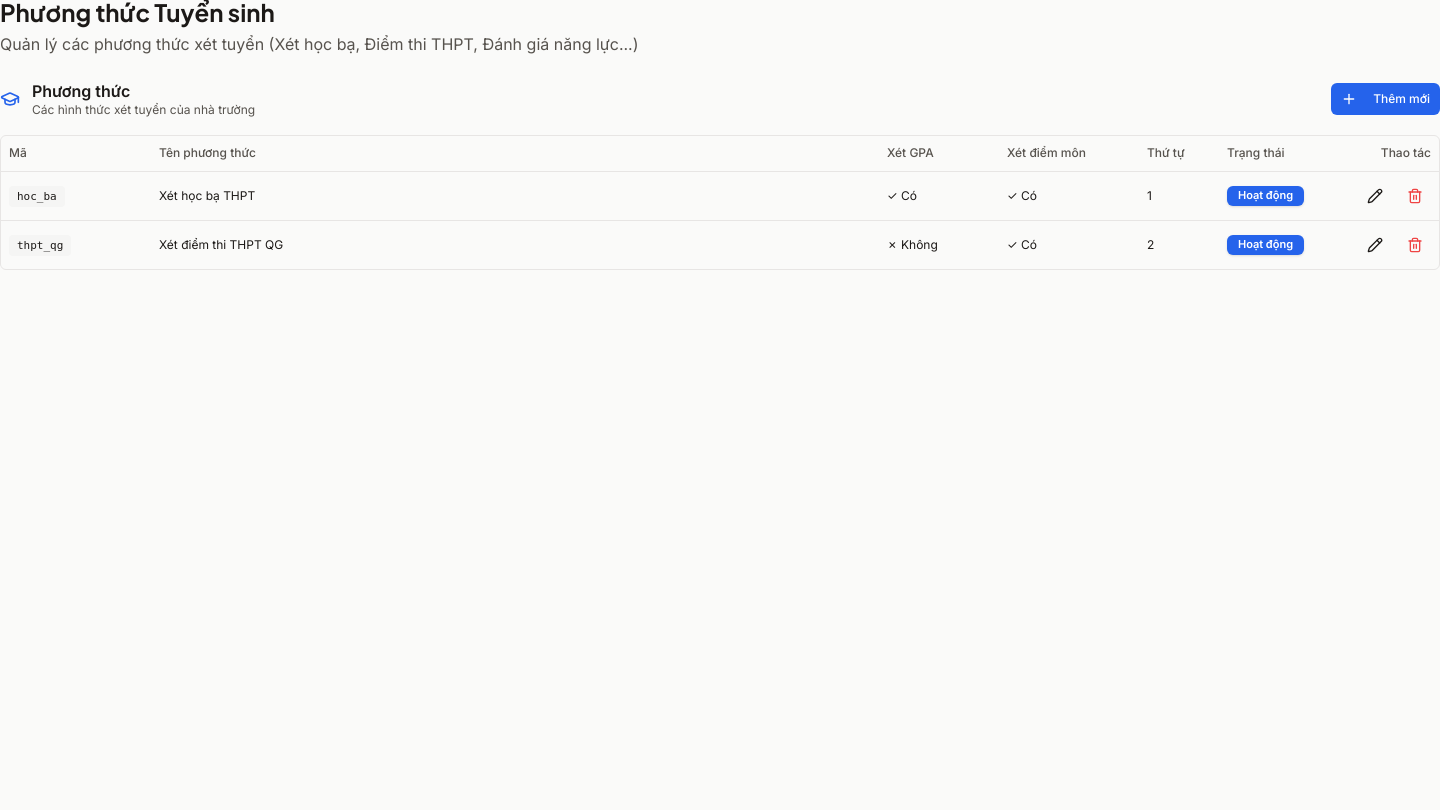
Test: AdmissionMethodPanel › should open edit dialog and populate data correctly
The width and height of the screenshot is (1440, 810).
# Edit "Xét học bạ THPT" (Row 1)
Click the button named "Chỉnh sửa" in the row of "hoc_ba": coordinates (1375, 196) [1359,180,1391,212]
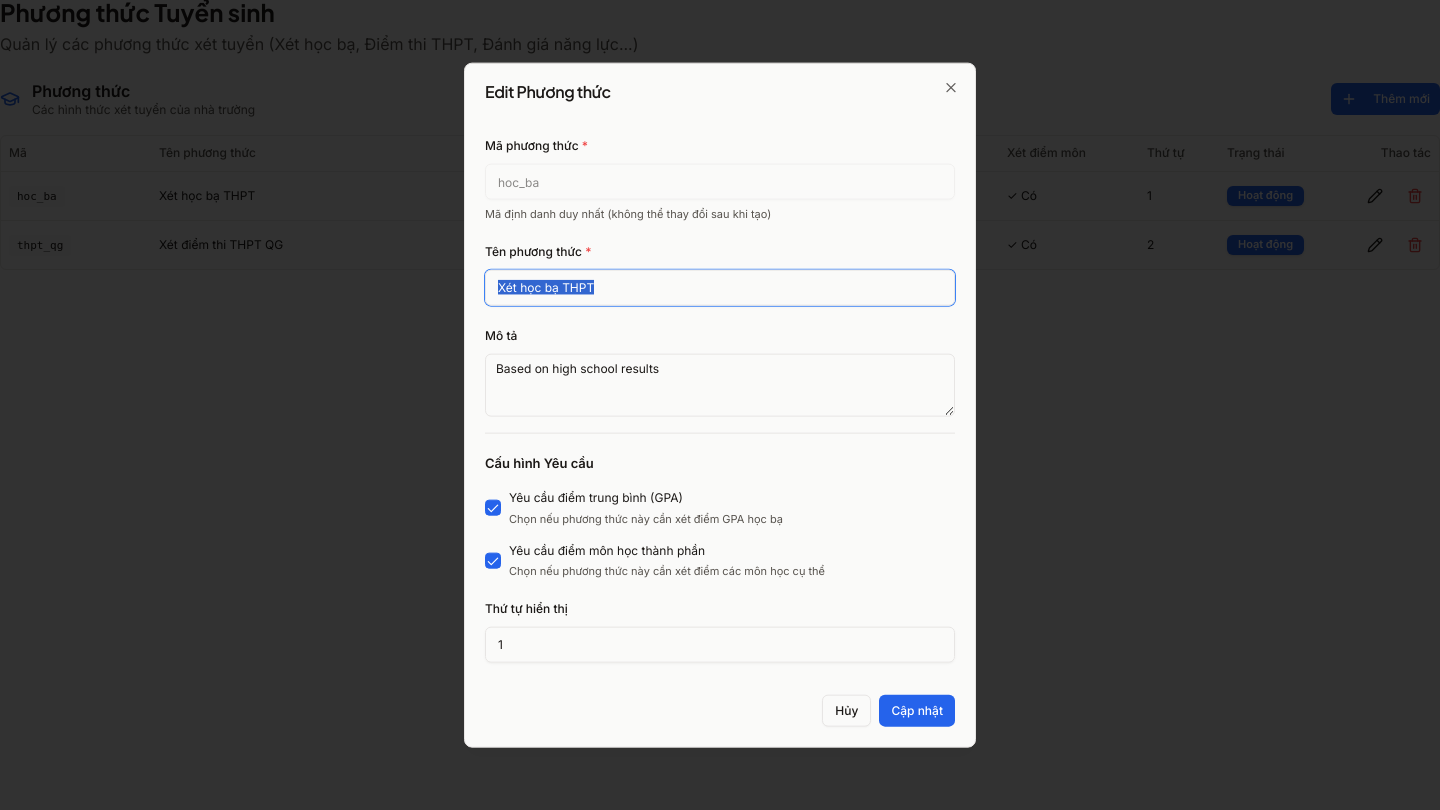
Expected: the field labelled "Mã phương thức *" holds "hoc_ba", [485,164,955,200]
Expected: the field labelled "Mã phương thức *" is disabled, [485,164,955,200]
Expected: the field labelled "Tên phương thức *" holds "Xét học bạ THPT", [485,269,955,305]
